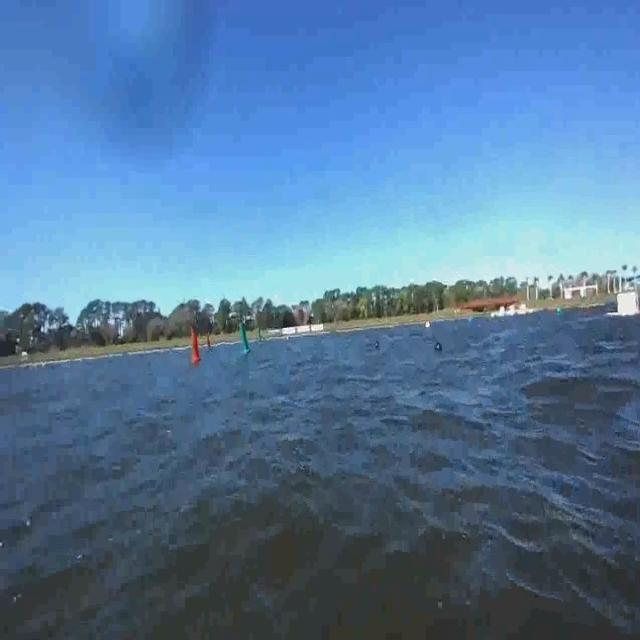black-buoy: (436, 342, 442, 353), (376, 341, 379, 350)
green-column-buoy: (238, 324, 249, 355)
red-column-buoy: (190, 327, 203, 365)
